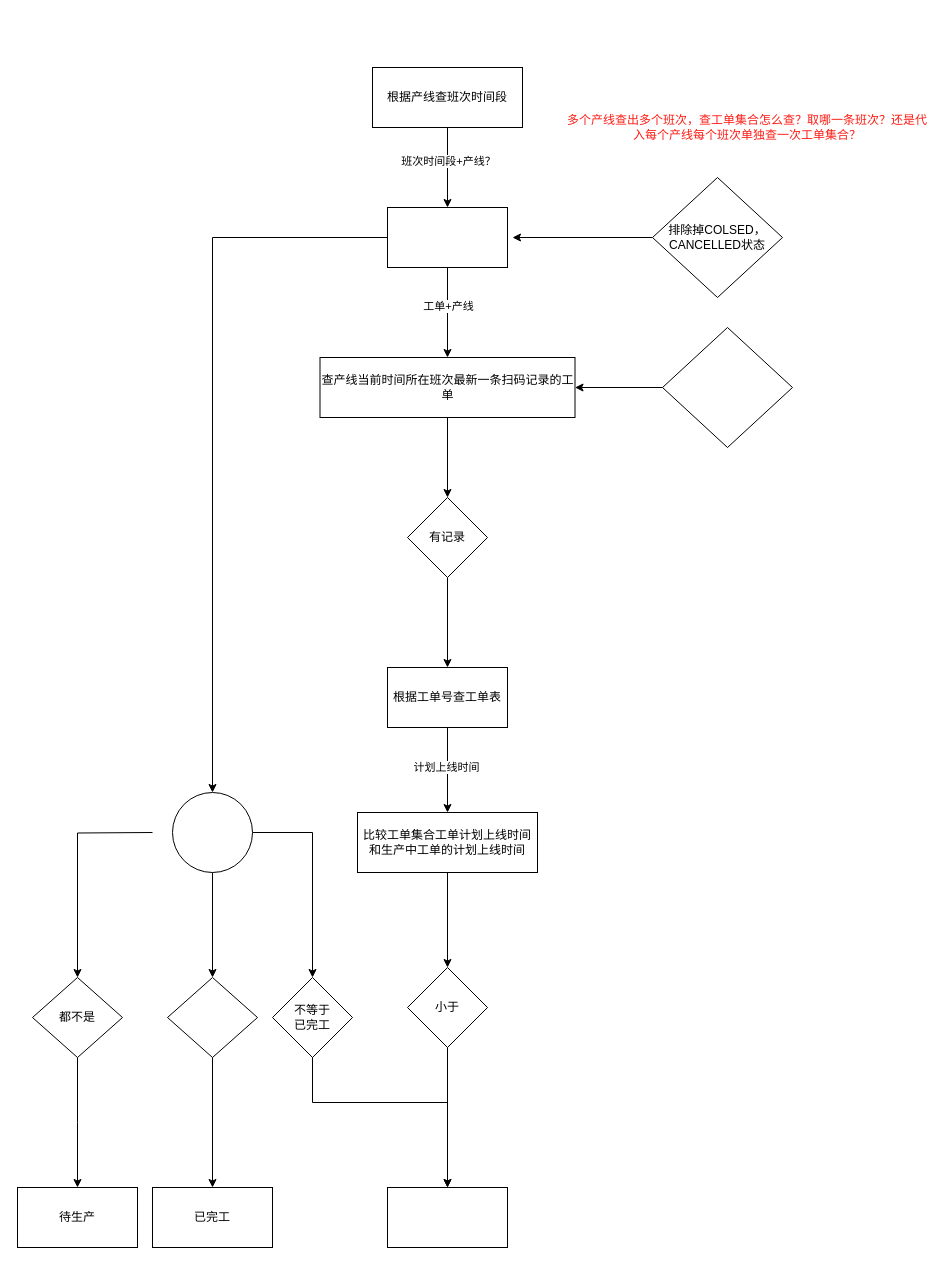
Some shapes in this 950 by 1265 pixel diagram are drawn without their labels. The shapes that lost their labels are listed below. From the top down, each one's centre as x and y in pixels, then its label:
the point at 447,237: 查出工单集合，遍历每条记录
the point at 727,387: 生产中工单
the point at 212,832: 取出工单状态
the point at 212,1017: COMPLETED
the point at 447,1217: 尾数
